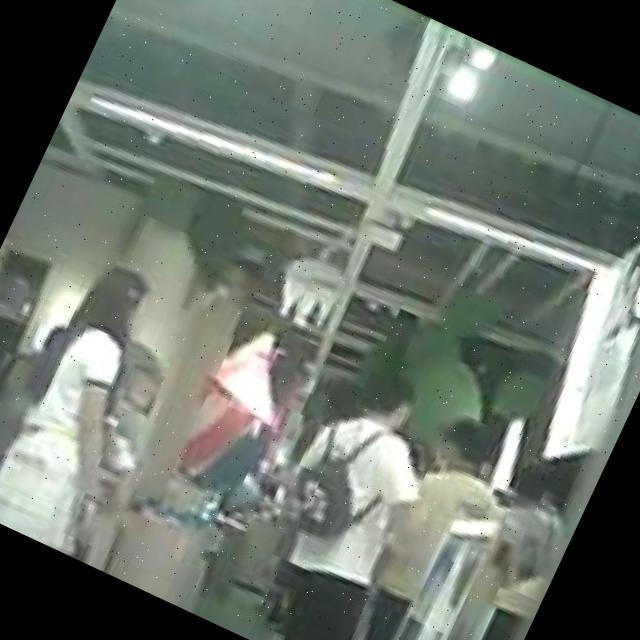person: (222, 351, 466, 640), (0, 247, 204, 562), (321, 405, 540, 640), (407, 457, 594, 640)
